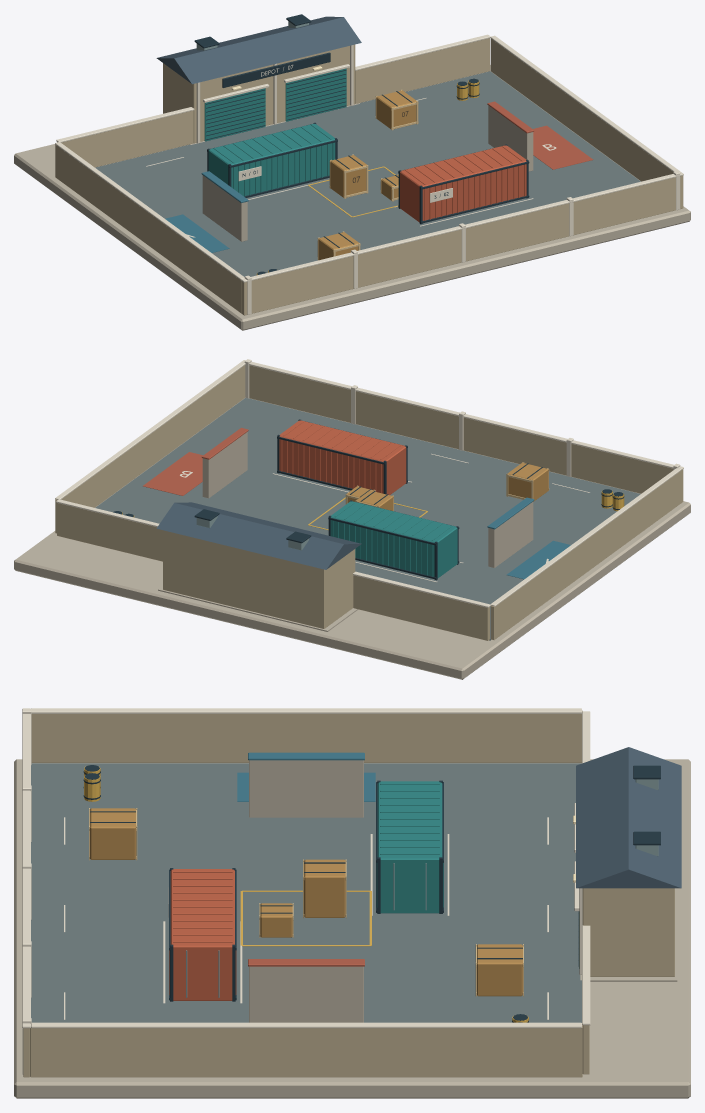
File: yard_07.fbx
3 renders of one model, top to bottom at view 1: azimuth 30°, elevation 25°; view 2: azimuth 150°, elevation 25°; view 3: azimuth 270°, elevation 25°, orthographic. The views are drawn at different scales.
Visible parts, largest first — view 1: Playable_Ground, Boundary_S, Foundation, Boundary_W, Warehouse_GableRoof, Container_South_Body, Boundary_E, Container_North_Body, Boundary_NE, Warehouse, Boundary_NW, Warehouse_ClosedDoor.001 (+14 smaller); view 2: Playable_Ground, Foundation, Boundary_S, Warehouse, Boundary_W, Container_South_Body, Warehouse_GableRoof, Boundary_E, Container_North_Body, Boundary_NW, Boundary_NE, Boundary_S_Cap (+9 smaller); view 3: Playable_Ground, Foundation, Boundary_E, Boundary_W, Warehouse_GableRoof, Container_South_Body, Warehouse, Container_North_Body, Spawn_A_Screen, Spawn_B_Screen, Boundary_E_Cap, Boundary_W_Cap (+10 smaller).
Part boxes in pixels (x1=…): Playable_Ground: x1=95, y1=71, x2=640, y2=276; Boundary_S: x1=242, y1=175, x2=683, y2=315; Foundation: x1=14, y1=65, x2=690, y2=330; Boundary_W: x1=55, y1=145, x2=241, y2=313; Warehouse_GableRoof: x1=156, y1=16, x2=361, y2=84; Container_South_Body: x1=400, y1=145, x2=526, y2=222; Boundary_E: x1=490, y1=39, x2=673, y2=181; Container_North_Body: x1=208, y1=123, x2=335, y2=196; Boundary_NE: x1=355, y1=38, x2=489, y2=103; Warehouse: x1=163, y1=44, x2=355, y2=143; Boundary_NW: x1=61, y1=110, x2=193, y2=167; Warehouse_ClosedDoor.001: x1=285, y1=68, x2=346, y2=121; Playable_Ground: x1=95, y1=398, x2=640, y2=640; Foundation: x1=14, y1=398, x2=690, y2=679; Boundary_S: x1=249, y1=365, x2=683, y2=503; Warehouse: x1=163, y1=530, x2=355, y2=628; Boundary_W: x1=490, y1=471, x2=680, y2=639; Container_South_Body: x1=279, y1=420, x2=406, y2=495; Warehouse_GableRoof: x1=156, y1=502, x2=361, y2=569; Boundary_E: x1=55, y1=365, x2=245, y2=533; Container_North_Body: x1=330, y1=501, x2=457, y2=578; Boundary_NW: x1=353, y1=575, x2=489, y2=640; Boundary_NE: x1=57, y1=503, x2=162, y2=561; Boundary_S_Cap: x1=241, y1=360, x2=683, y2=470; Playable_Ground: x1=31, y1=763, x2=581, y2=1022; Foundation: x1=14, y1=759, x2=690, y2=1098; Boundary_E: x1=30, y1=1025, x2=582, y2=1077; Boundary_W: x1=31, y1=710, x2=582, y2=762; Warehouse_GableRoof: x1=576, y1=747, x2=681, y2=888; Container_South_Body: x1=170, y1=869, x2=234, y2=1000; Warehouse: x1=582, y1=888, x2=674, y2=976; Container_North_Body: x1=377, y1=781, x2=442, y2=913; Spawn_A_Screen: x1=249, y1=760, x2=363, y2=817; Spawn_B_Screen: x1=249, y1=966, x2=363, y2=1022; Boundary_E_Cap: x1=31, y1=1022, x2=581, y2=1028; Boundary_W_Cap: x1=31, y1=708, x2=581, y2=713.
Bounding box in the file's own units: 33.4 × 6.37 × 29.4.
